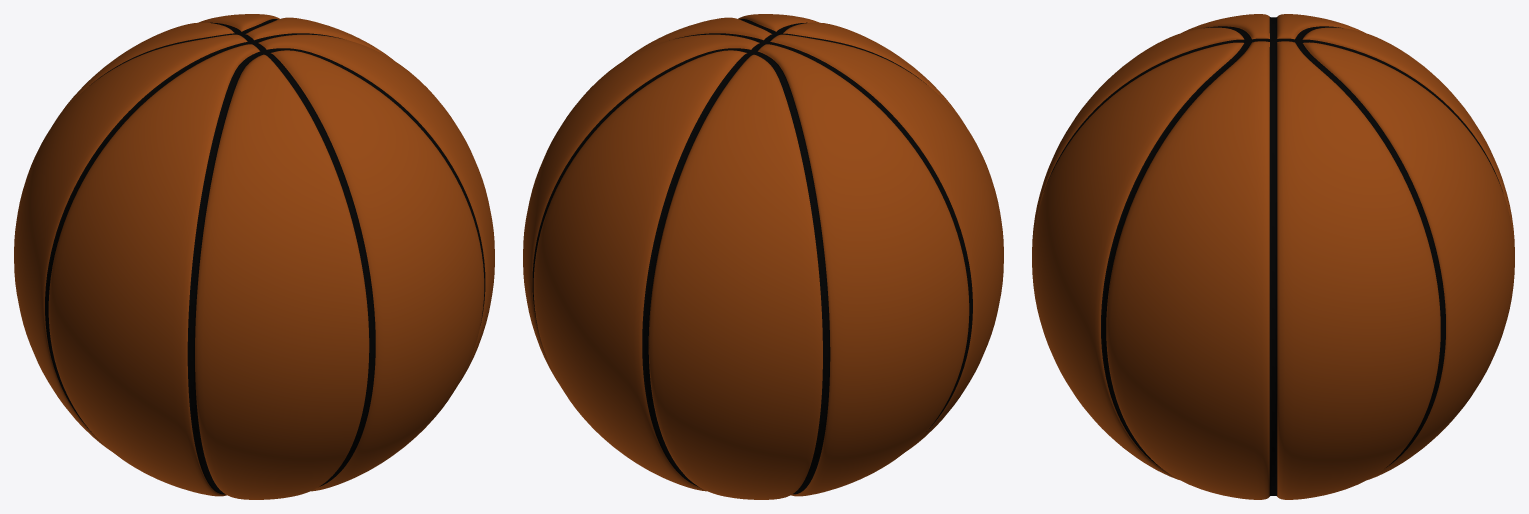
Rendered from ball.fbx.
3 views of the same model, side by side, from view 1: azimuth 30°, elevation 25°; view 2: azimuth 150°, elevation 25°; view 3: azimuth 270°, elevation 25° (orthographic).
Parts seen in each view (by area): view 1: Сфера; view 2: Сфера; view 3: Сфера.
Part boxes in pixels (x1,y1,x2,y2): Сфера: (14,14,494,499); Сфера: (523,14,1003,499); Сфера: (1032,14,1514,499).
Bounding box in the file's own units: 193 × 194 × 193.
